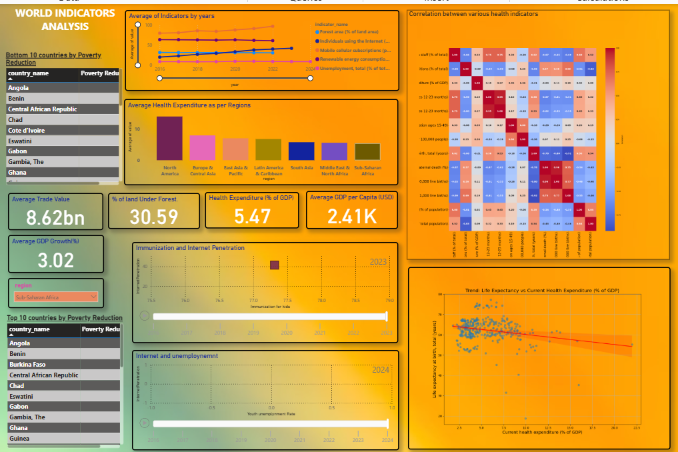

What the dashboard file says about the page in this screenshot:
{"tool":"powerbi","page":{"name":"Page 1","canvas":[1800,1200],"ordinal":0},"visuals":[{"type":"card","title":"Average  GDP per Capita (USD)","fields":{"Values":["Avg(economic.value)"]},"box":[812.4,495.4,244.2,100.5],"z":0},{"type":"card","title":"Average Trade Value","fields":{"Values":["Measure Table.Average Trade Value"]},"box":[20.8,500.6,252.9,98.7],"z":1000},{"type":"card","title":"Health Expenditure (% of GDP)","fields":{"Values":["Avg(health.value)"]},"box":[543.9,498.8,249.4,97],"z":2000},{"type":"card","title":"Average  GDP Growth(%)","fields":{"Values":["Avg(economic.value)"]},"box":[20.8,611.4,254.6,100.5],"z":3000},{"type":"card","title":"% of land Under Forest.","fields":{"Values":["Avg(environment.value)"]},"box":[285.8,500.6,244.2,95.3],"z":4000},{"type":"slicer","fields":{"Values":["poverty.region"]},"box":[20.8,727.5,254.6,79.7],"z":5000},{"type":"lineChart","title":"Average of Indicators by years","fields":{"Category":["Line Chart.year"],"Series":["Line Chart.indicator_name"],"Y":["Avg(Line Chart.value)"]},"box":[330.8,15.6,727.5,214.8],"z":6000},{"type":"scatterChart","title":"Internet and unemploynemnt","fields":{"Category":["Scatter plot.year"],"Play":["Scatter plot.year"],"Size":["Scatter plot.GDPperCapita"],"X":["Scatter plot.Youth unemplynment Rate"],"Y":["Scatter plot.InternetPenetration"]},"box":[350,916,708,266],"z":7000},{"type":"clusteredColumnChart","title":"Average Health Expenditure as per Regions","fields":{"Category":["health.region"],"Y":["Avg(health.value)"]},"box":[329.1,251.2,727.5,228.6],"z":8000},{"type":"textbox","box":[12.1,0,318.7,124.7],"z":9000},{"type":"pythonVisual","fields":{"Values":["health.country_name","health.value","health.year","health.indicator_name"]},"box":[1080.4,698,696.1,484.3],"z":10000},{"type":"pythonVisual","title":"Correlation between various  health indicators","fields":{"Values":["health.country_name","health.year","health.indicator_name","health.value"]},"box":[1080.2,16.4,695.8,661.2],"z":11000},{"type":"tableEx","title":"Top 10 countries by Poverty Reduction","fields":{"Values":["poverty.country_name","Measure Table.Poverty Reduction %"]},"box":[12.1,822.8,318.7,360.3],"z":12000},{"type":"tableEx","title":"Bottom 10 countries by Poverty Reduction","fields":{"Values":["poverty.country_name","Measure Table.Poverty Reduction %"]},"box":[10.4,124.7,318.7,360.3],"z":13000},{"type":"scatterChart","title":"Immunization and Internet Penetration","fields":{"Category":["Scatter plot.year"],"Play":["Scatter plot.year"],"Size":["Scatter plot.GDPperCapita"],"X":["Scatter plot.unemploynment_reduction"],"Y":["Scatter plot.InternetPenetration"]},"box":[350,630,706,268],"z":14000}]}

Visuals, with their boxes in screenshot pixels (x1, y1, x2, y2), scaled from the page's 1800x1200 canvas onto the 678x452 screenshot:
"Average  GDP per Capita (USD)" card: (306,187,398,224)
"Average Trade Value" card: (8,189,103,226)
"Health Expenditure (% of GDP)" card: (205,188,299,224)
"Average  GDP Growth(%)" card: (8,230,104,268)
"% of land Under Forest." card: (108,189,200,224)
slicer - poverty.region: (8,274,104,304)
"Average of Indicators by years" lineChart: (125,6,399,87)
"Internet and unemploynemnt" scatterChart: (132,345,399,445)
"Average Health Expenditure as per Regions" clusteredColumnChart: (124,95,398,181)
textbox: (5,0,125,47)
pythonVisual - health.country_name x health.value: (407,263,669,445)
"Correlation between various  health indicators" pythonVisual: (407,6,669,255)
"Top 10 countries by Poverty Reduction" tableEx: (5,310,125,446)
"Bottom 10 countries by Poverty Reduction" tableEx: (4,47,124,183)
"Immunization and Internet Penetration" scatterChart: (132,237,398,338)
